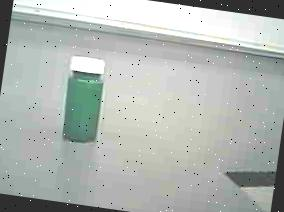Bottle C: (50, 46, 121, 152)
